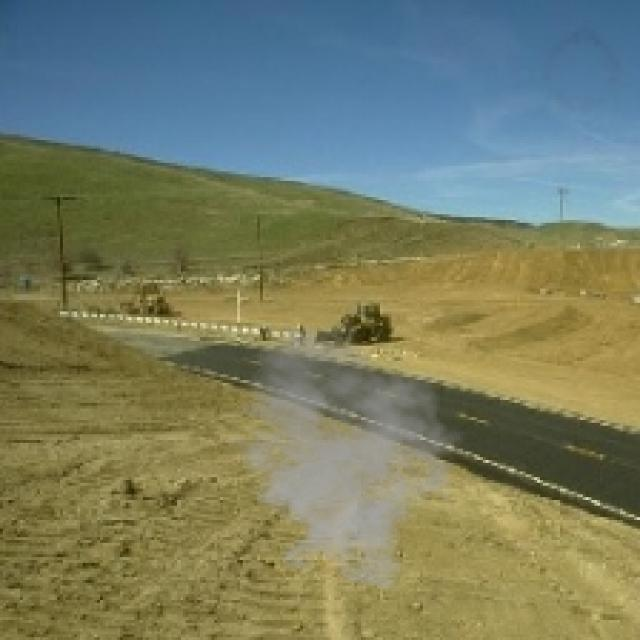Smoke: (214, 323, 466, 591)
